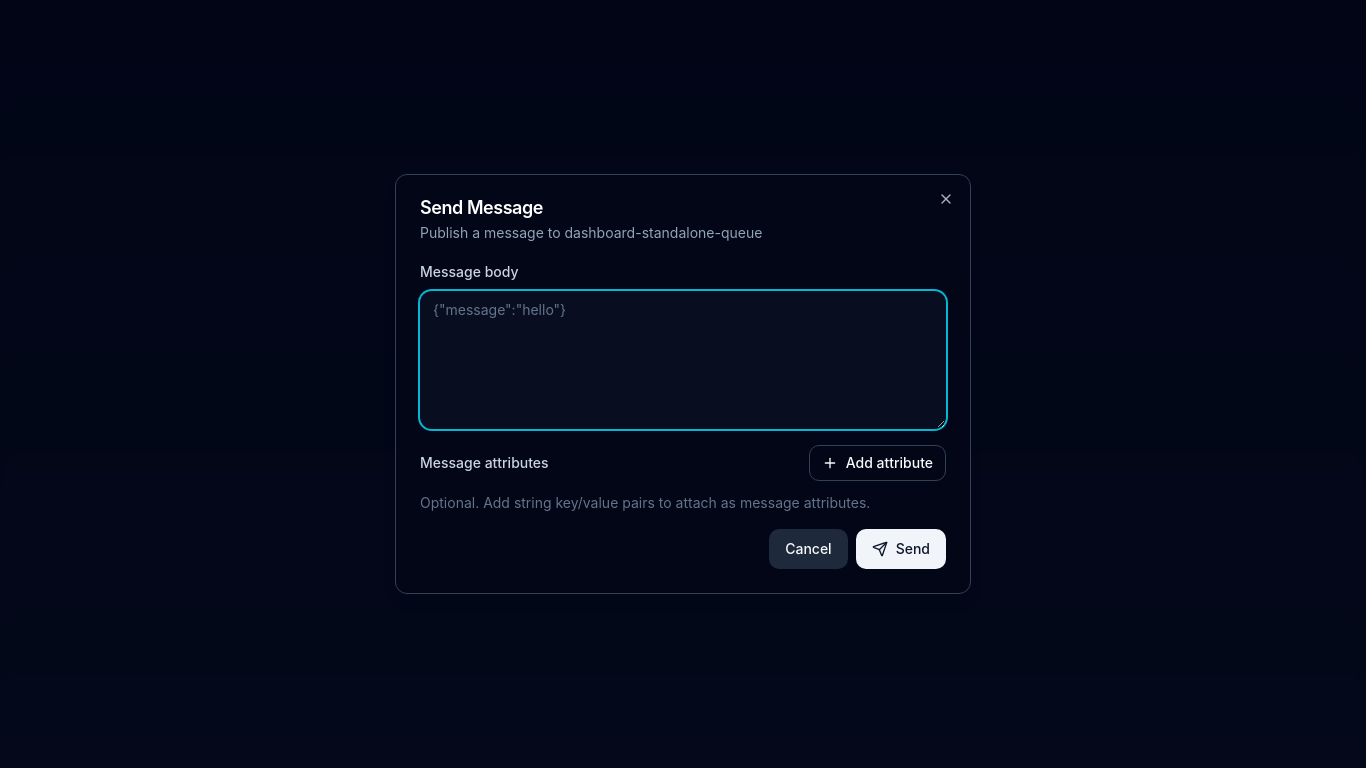
Test: SQS components › submits the body and string attributes and clears the form on success
Type "hello" into the text box labelled "Message body" at {"x": 683, "y": 360}, box left=420, top=291, right=946, bottom=429
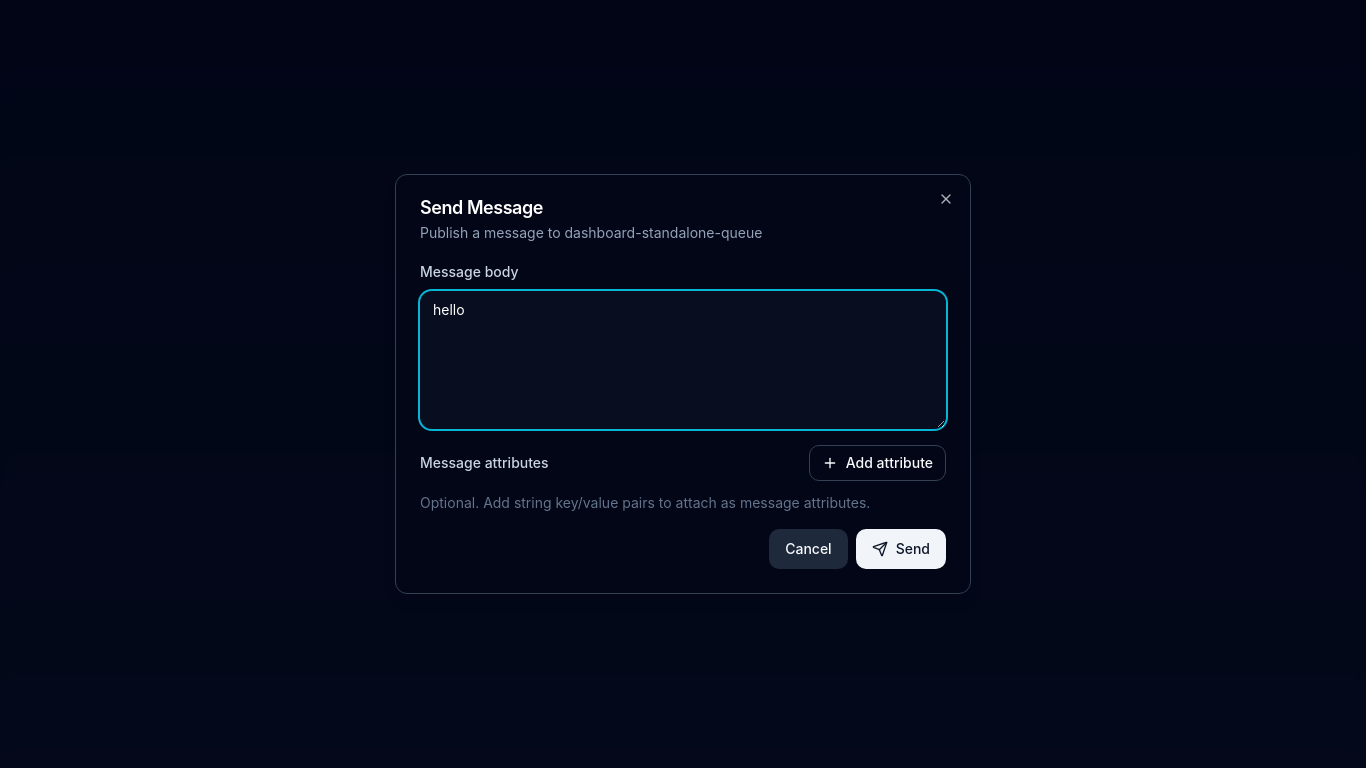
Click the button "Add attribute" at {"x": 877, "y": 463}, box left=809, top=445, right=946, bottom=481
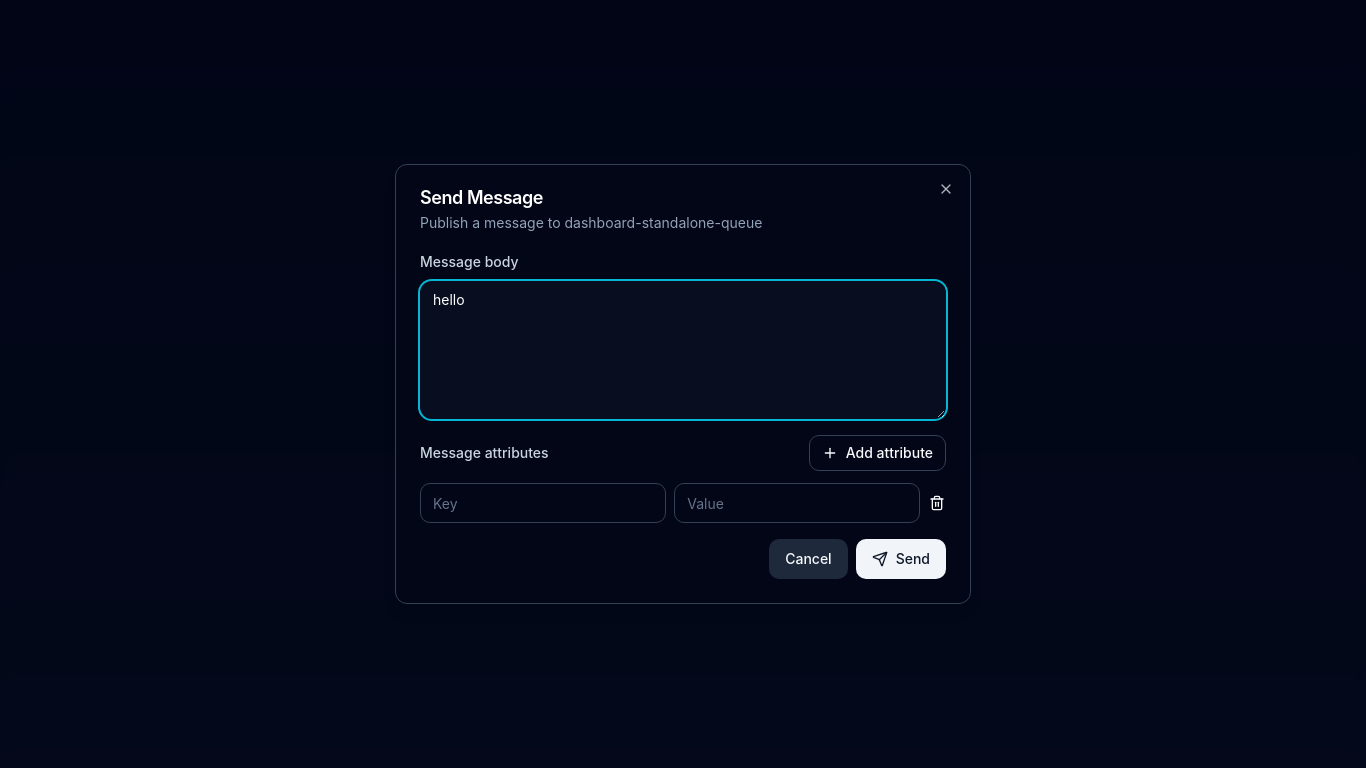
Type "source" into the field named "Attribute key" at {"x": 543, "y": 503}, box left=420, top=483, right=666, bottom=523
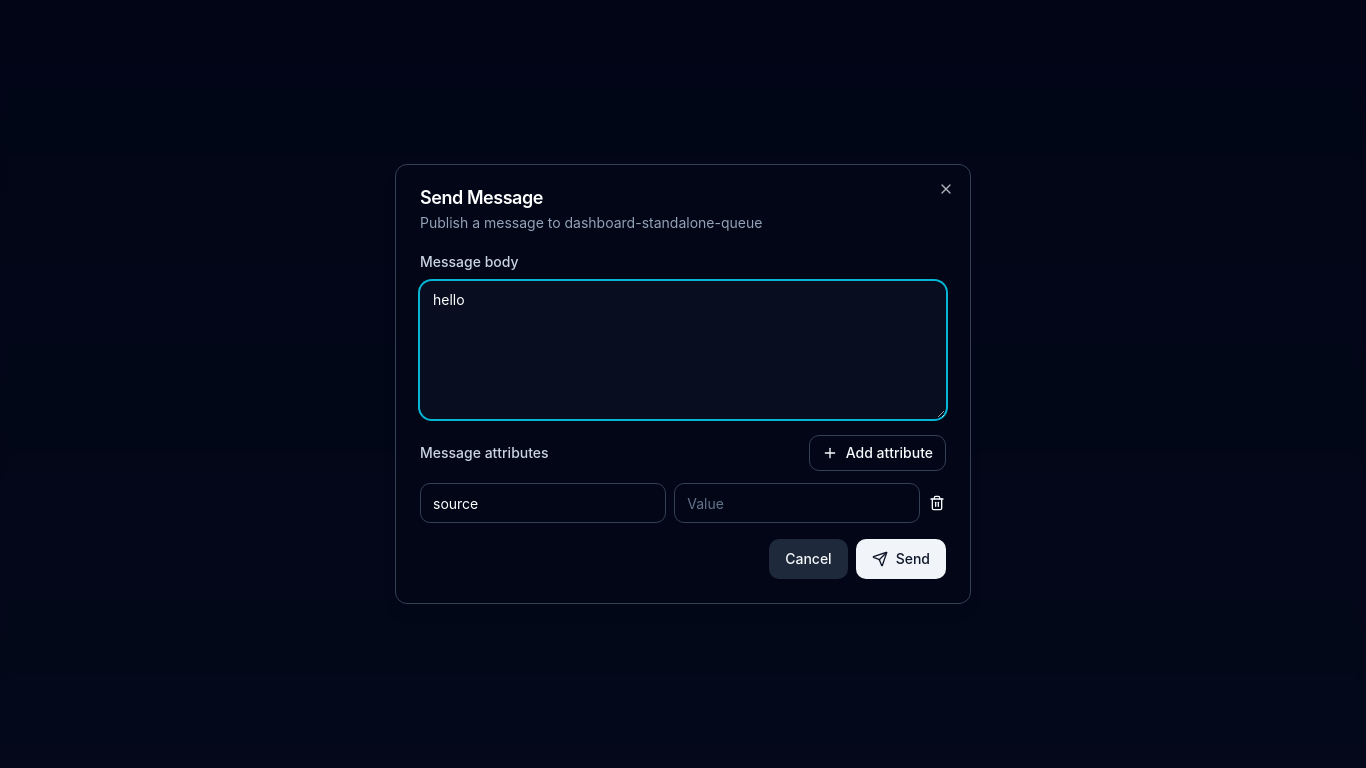
Type "dashboard" into the field named "Attribute value" at {"x": 797, "y": 503}, box left=674, top=483, right=920, bottom=523
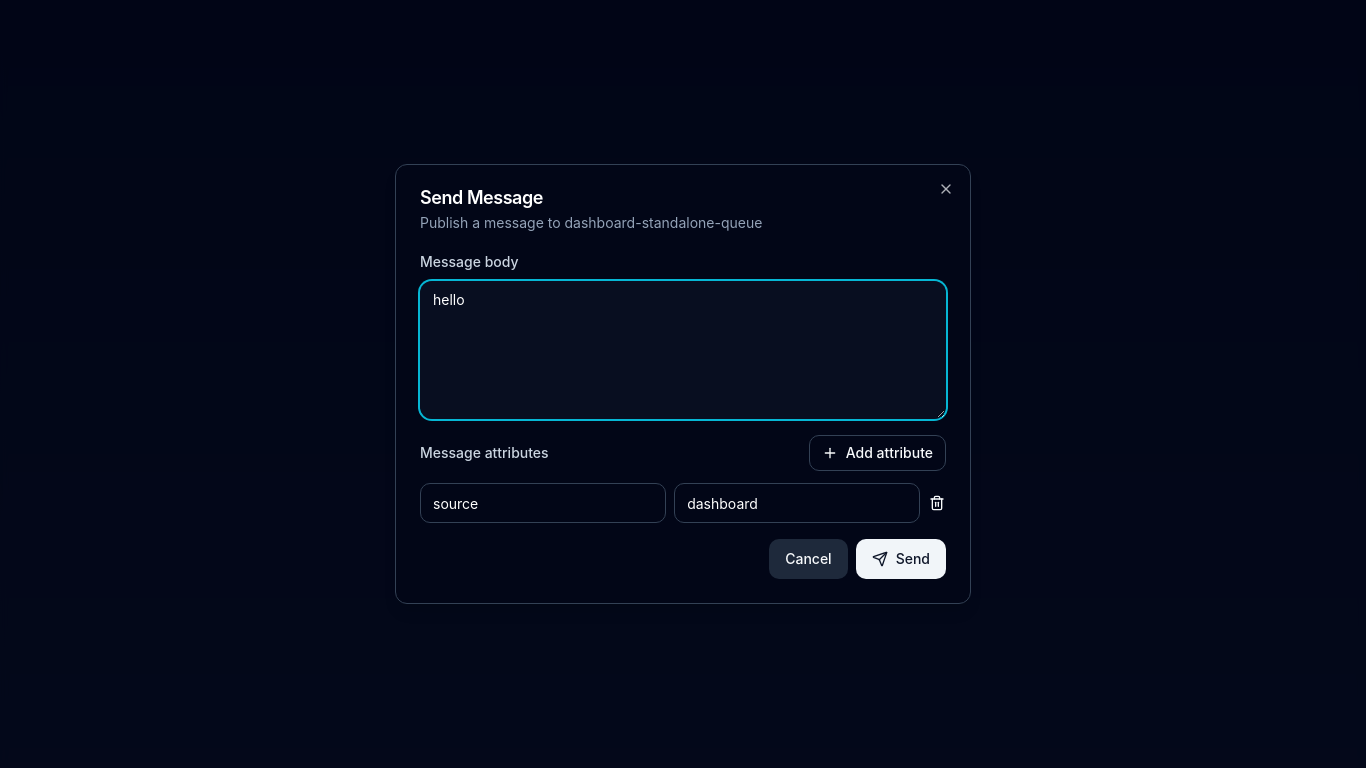
Click the button "Send" at {"x": 901, "y": 559}, box left=856, top=539, right=946, bottom=579
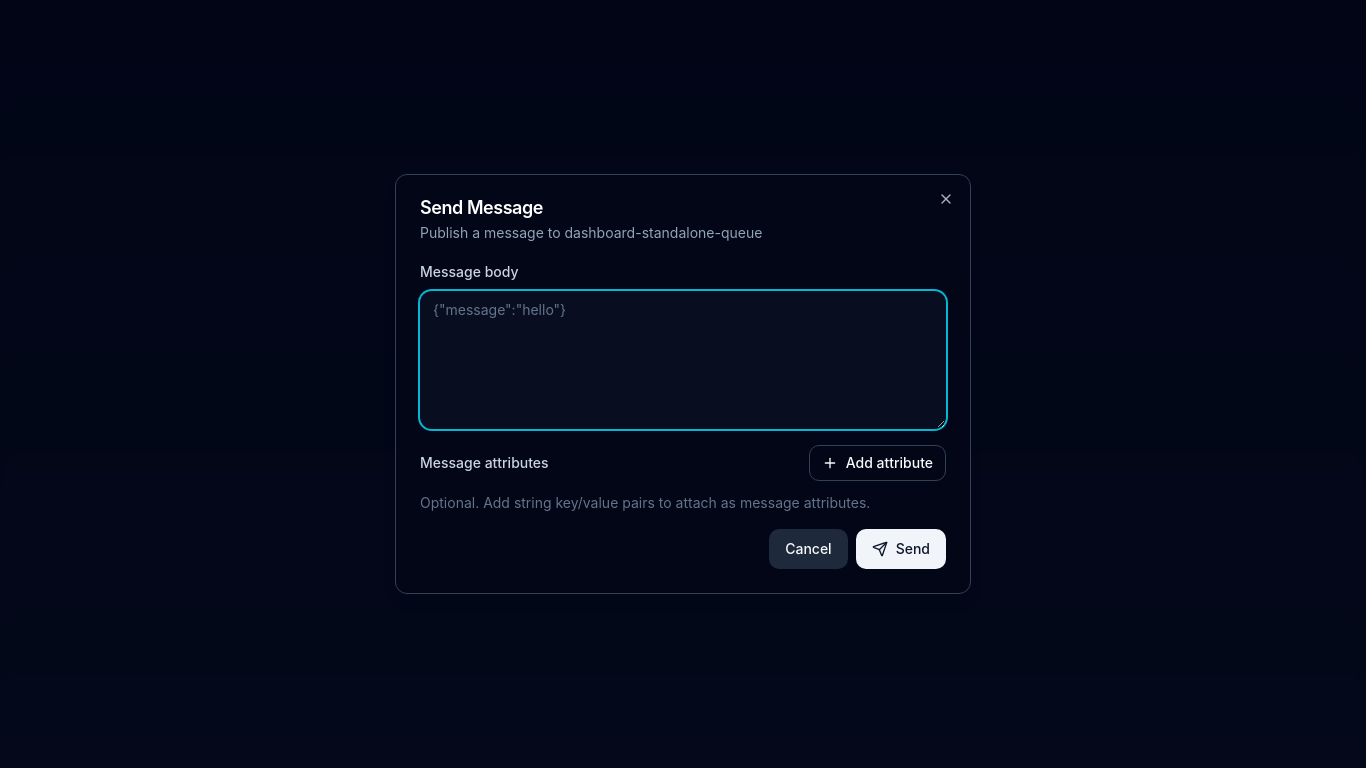
Expected: the text box labelled "Message body" is empty, left=420, top=291, right=946, bottom=429
Expected: the field labelled "Attribute key" is gone
